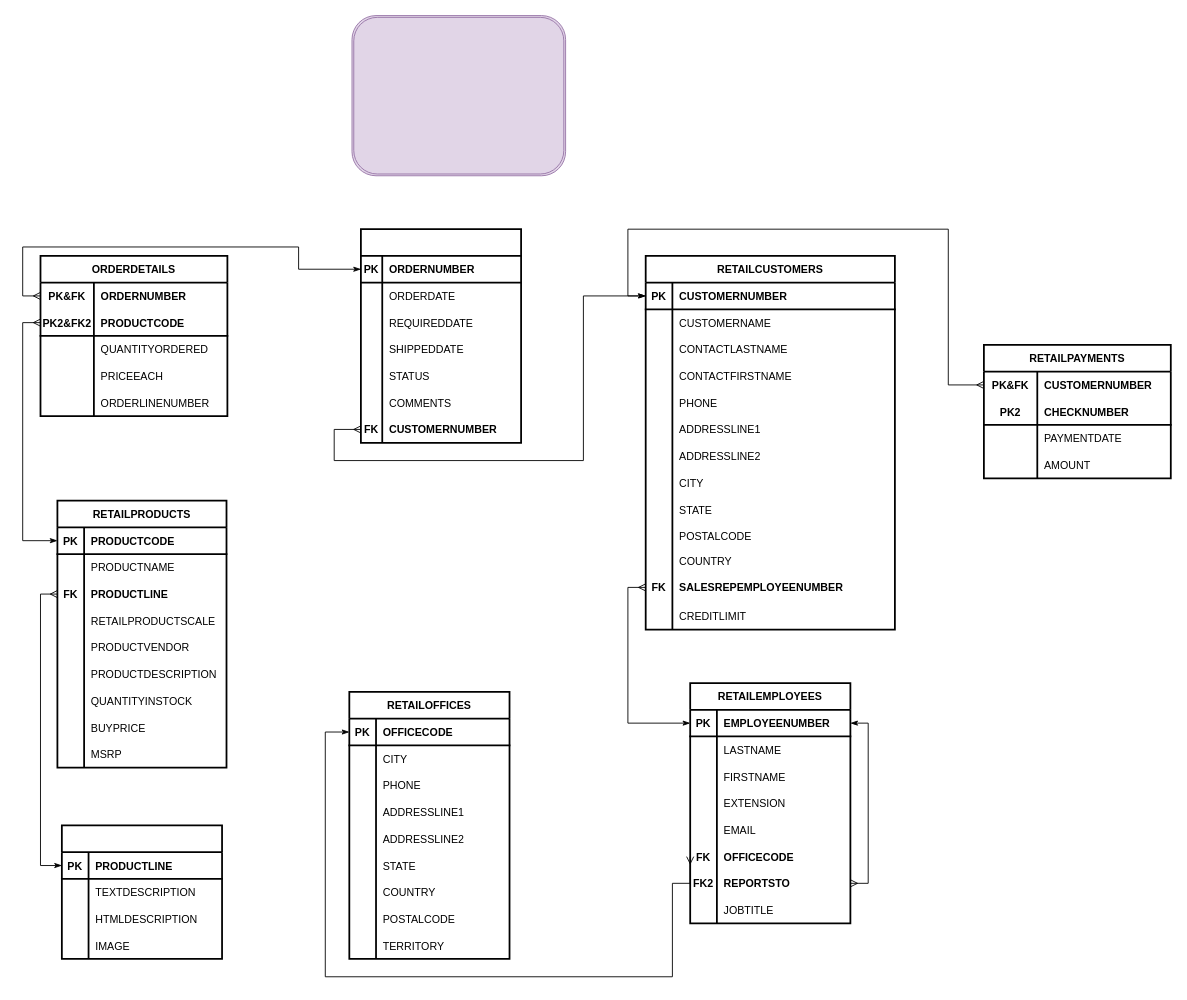
This 1187x1000 diagram has some shape labels left out. The shapes that lost their labels are listed below. From the top down, each one's box as (x1, y1, x2, y2) in pixels, then its label:
(351, 15, 566, 176): Lab 2 Abcedi Ilacas 138180211 20-01-24
(360, 228, 522, 443): RETAILORDERS
(61, 824, 222, 959): PRODUCTLINES
